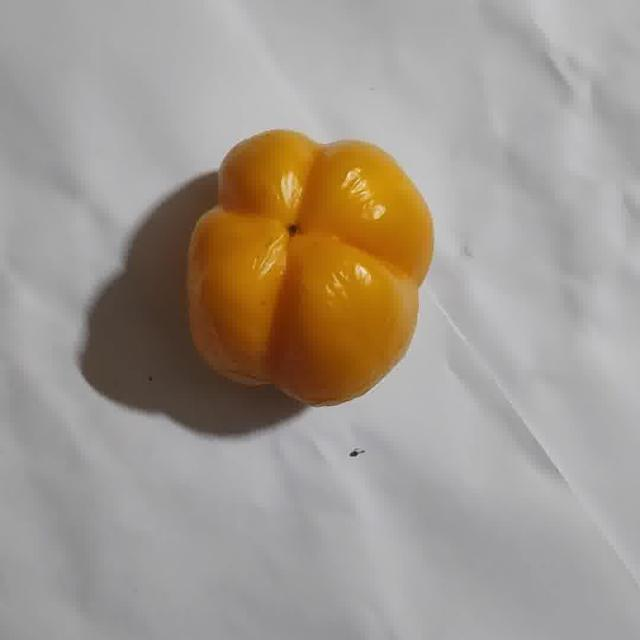Bell Pepper: (188, 131, 431, 405)
